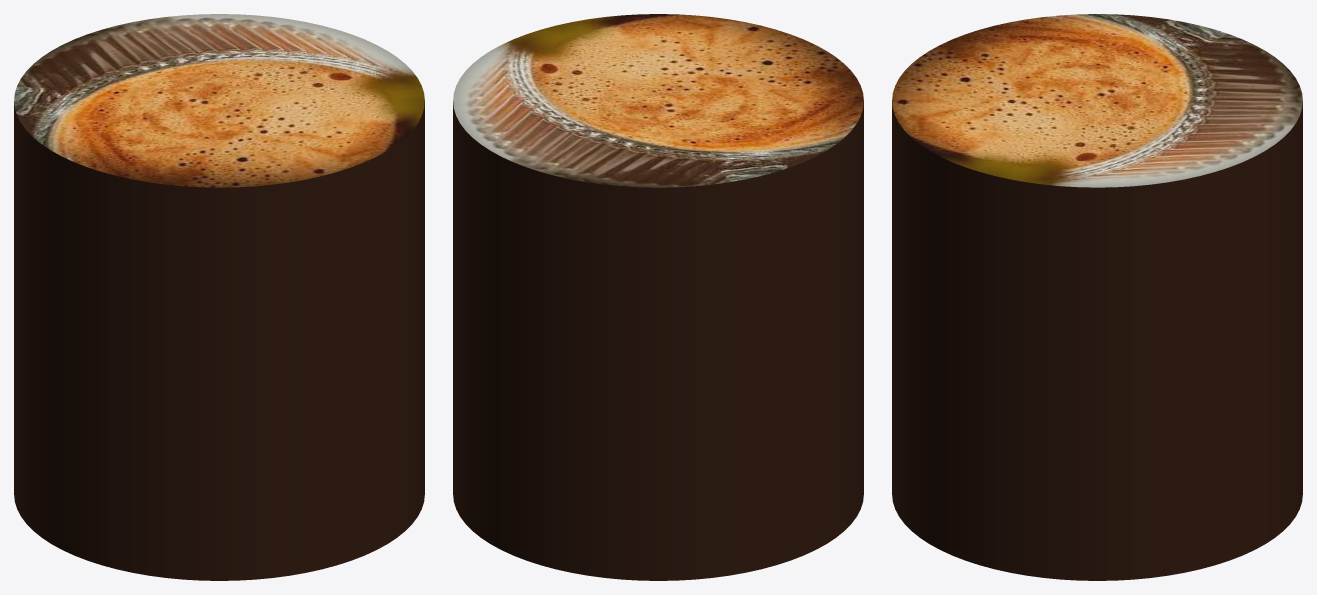
The model's file is CoffeeLiquid.obj.
3 renders of one model, left to right at view 1: azimuth 30°, elevation 25°; view 2: azimuth 150°, elevation 25°; view 3: azimuth 270°, elevation 25°, orthographic.
Visible parts, largest first — view 1: CoffeeBody, CoffeeCrema; view 2: CoffeeBody, CoffeeCrema; view 3: CoffeeBody, CoffeeCrema.
Boxes of the visible parts, x1,y1,x2,y2 form: CoffeeBody: [14, 102, 424, 580]; CoffeeCrema: [14, 14, 424, 187]; CoffeeBody: [453, 102, 863, 580]; CoffeeCrema: [453, 14, 863, 187]; CoffeeBody: [892, 102, 1302, 580]; CoffeeCrema: [892, 14, 1302, 187].
Bounding box in the file's own units: 0.071 × 0.075 × 0.071.
Materials: 2 (2 with a texture image).
